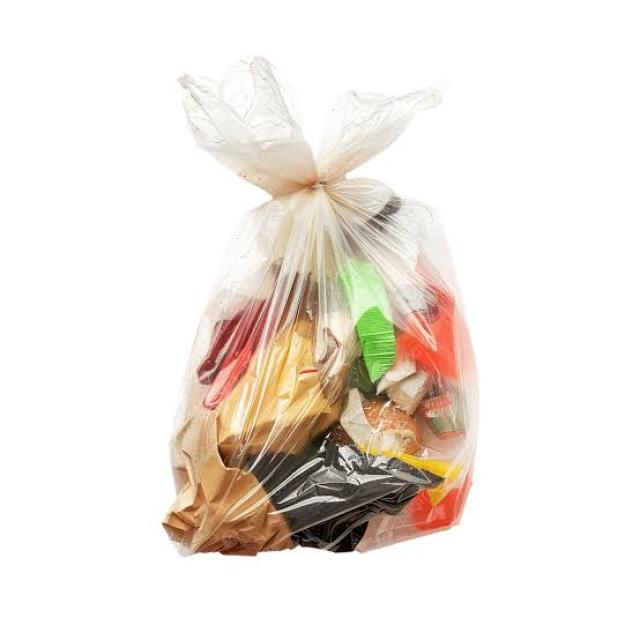plastic bag: (134, 0, 640, 589)
